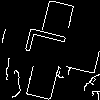L: (25, 25, 76, 63)
